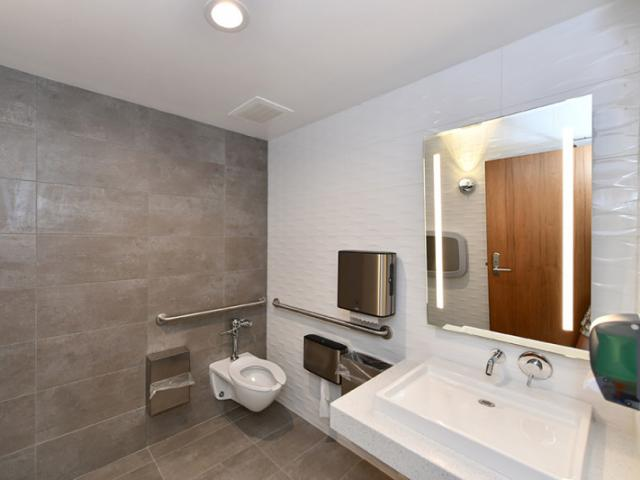countertop: (331, 351, 638, 471)
dispenser: (588, 311, 640, 413), (336, 249, 397, 317)
door_handle: (490, 248, 511, 277)
faucet: (517, 351, 554, 387)
restroom_assist_bar: (270, 293, 394, 341), (154, 293, 268, 328)
sink: (383, 363, 590, 477)
toilet: (210, 350, 286, 413)
toilet_handle: (220, 323, 240, 338)
waste_bin: (142, 346, 194, 416), (335, 348, 396, 394)
